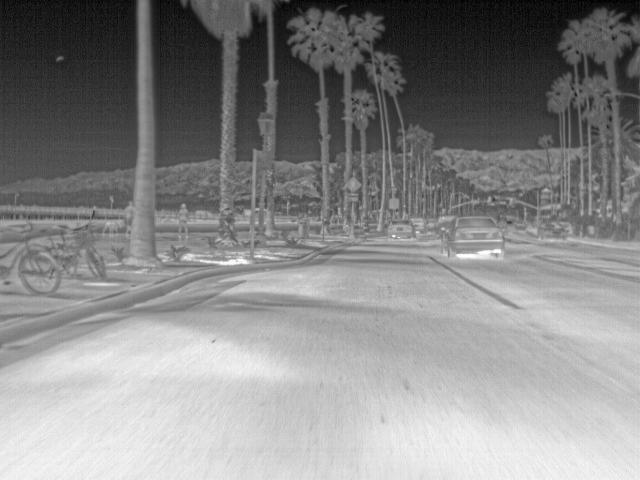car: (445, 214, 507, 260), (538, 222, 568, 242), (386, 220, 418, 238), (512, 218, 527, 232)
dog: (102, 218, 124, 236)
person: (120, 199, 139, 238), (176, 201, 192, 237)
